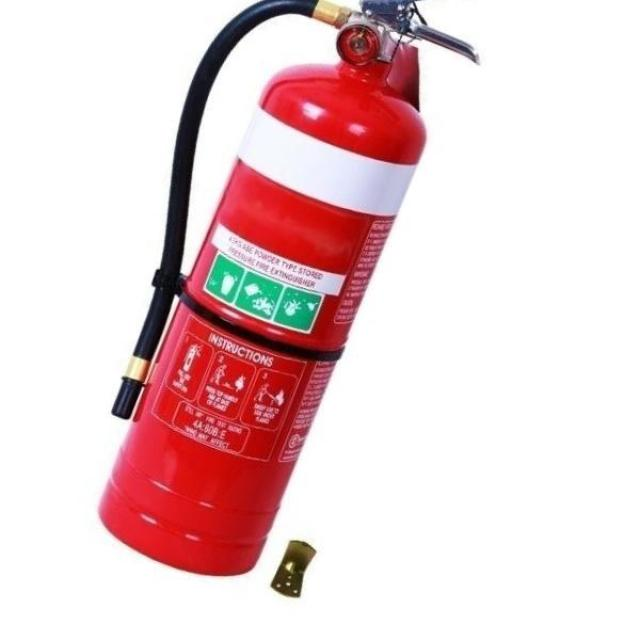fire_extinguisher: (88, 0, 496, 581)
